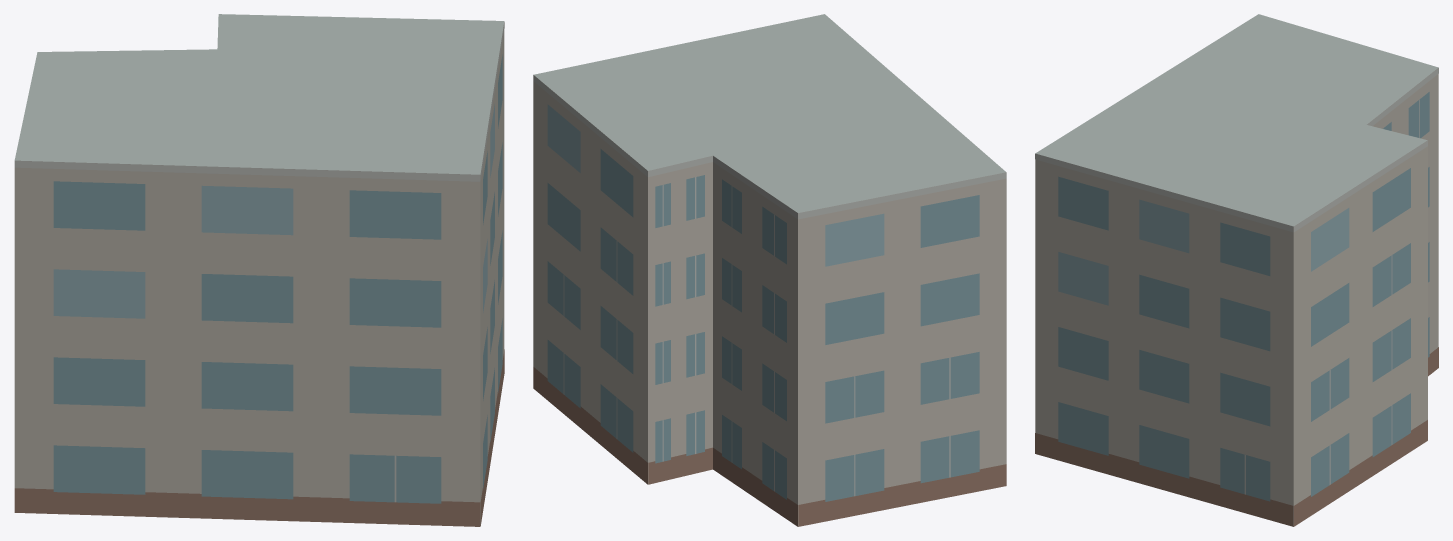
File: survey-upis-32624768.glb
3 renders of one model, left to right at view 1: azimuth 30°, elevation 25°; view 2: azimuth 150°, elevation 25°; view 3: azimuth 270°, elevation 25°, orthographic. The views are drawn at different scales.
Visible parts, largest first — view 1: survey-upis-32624768.tmp; view 2: survey-upis-32624768.tmp; view 3: survey-upis-32624768.tmp.
Part boxes in pixels (x1,y1,x2,y2): survey-upis-32624768.tmp: (14, 14, 504, 526); survey-upis-32624768.tmp: (533, 14, 1006, 526); survey-upis-32624768.tmp: (1035, 14, 1438, 526).
Size of the model in its own units: 18.52 by 12.2 by 14.86.
